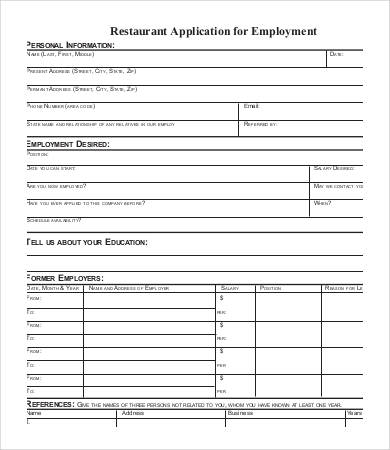table: (26, 284, 364, 397), (28, 49, 362, 135), (26, 149, 364, 232)
